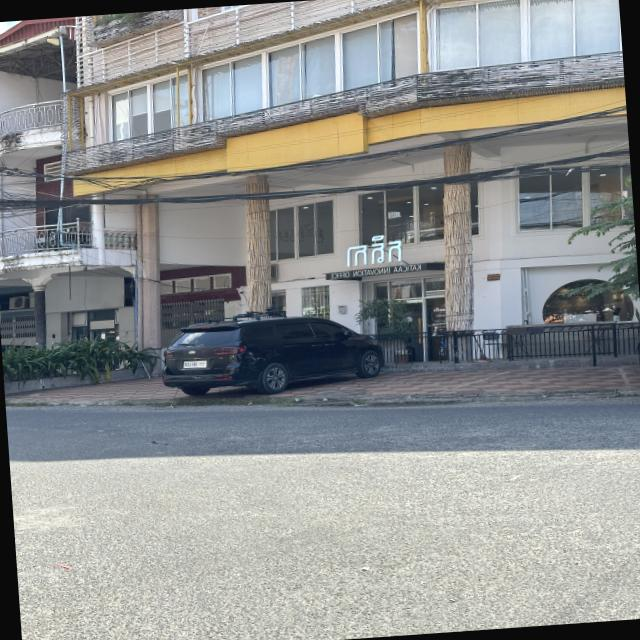Yolov11kh: (336, 228, 416, 270)
